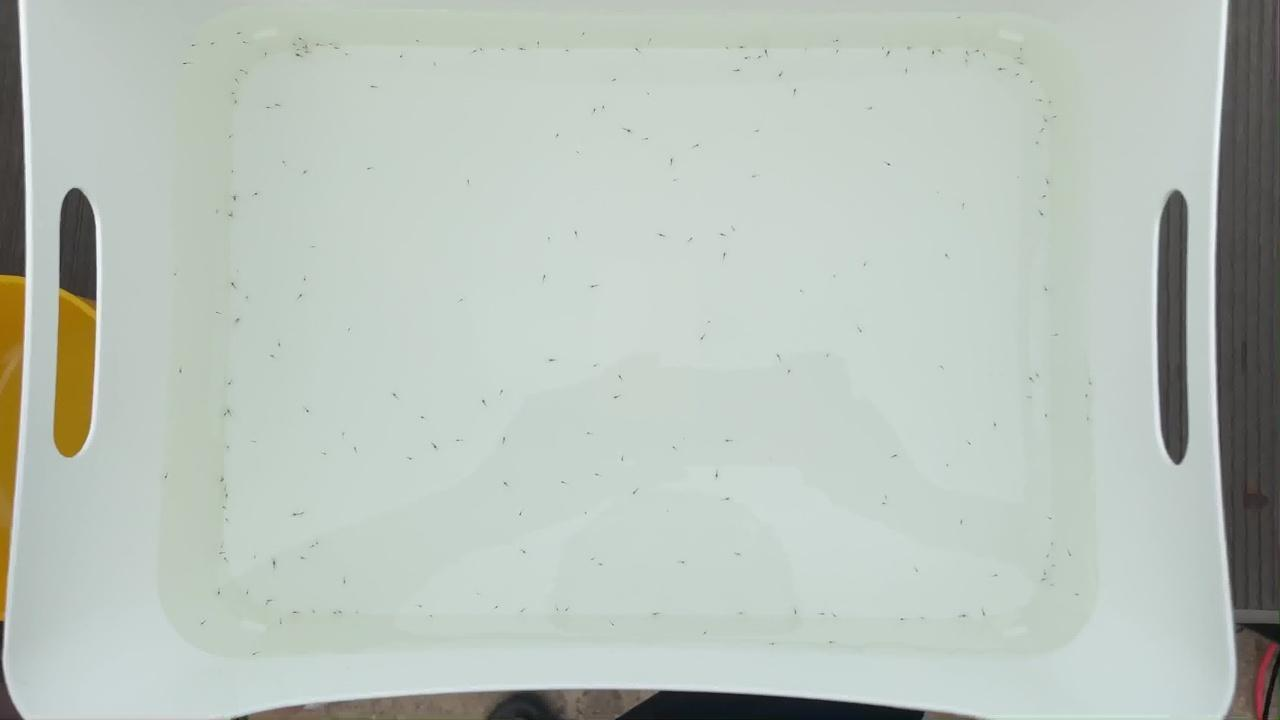shrimp: (964, 440, 977, 448), (944, 462, 957, 470), (824, 639, 837, 647), (699, 628, 712, 636), (1041, 285, 1054, 293), (1049, 113, 1062, 121), (755, 52, 768, 60), (761, 46, 774, 54), (962, 201, 975, 209), (687, 235, 700, 243), (665, 157, 678, 165), (620, 129, 633, 137), (592, 107, 605, 115), (647, 90, 660, 98), (342, 52, 355, 60), (315, 41, 328, 49), (260, 52, 273, 60), (207, 41, 220, 49), (243, 69, 256, 77), (232, 79, 245, 87), (300, 168, 313, 176), (228, 196, 241, 204), (160, 473, 173, 481), (242, 290, 255, 298), (224, 378, 237, 386), (298, 556, 311, 564), (215, 589, 228, 597), (198, 622, 211, 630), (518, 606, 531, 614), (555, 478, 568, 486), (631, 489, 644, 497), (989, 423, 1001, 431), (817, 611, 829, 619), (933, 46, 945, 54), (795, 285, 807, 293), (723, 439, 735, 447), (219, 484, 231, 492), (1073, 589, 1086, 596), (1035, 575, 1048, 582), (1045, 560, 1058, 567), (1038, 552, 1051, 559), (1067, 549, 1080, 556), (974, 608, 987, 615), (960, 613, 973, 620), (990, 575, 1003, 582), (1082, 415, 1095, 422), (1080, 391, 1093, 398), (1086, 380, 1099, 387), (1031, 373, 1044, 380), (1023, 375, 1036, 382), (1022, 391, 1035, 398), (1040, 415, 1053, 422), (954, 518, 967, 525), (917, 616, 930, 623), (894, 617, 907, 624), (827, 611, 840, 618), (791, 610, 804, 617), (733, 611, 746, 618), (879, 502, 892, 509), (879, 493, 892, 500), (890, 453, 903, 460), (1049, 331, 1062, 338), (1037, 206, 1050, 213), (1040, 192, 1053, 199), (1041, 176, 1054, 183), (1029, 139, 1042, 146), (1035, 128, 1048, 135), (1039, 116, 1052, 123), (1042, 97, 1055, 104), (1034, 97, 1047, 104), (1027, 79, 1040, 86), (1011, 73, 1024, 80), (1016, 60, 1029, 67), (1012, 55, 1025, 62), (1017, 44, 1030, 51), (971, 48, 984, 55), (960, 60, 973, 67), (952, 15, 965, 22), (903, 41, 916, 48), (878, 44, 891, 51), (831, 50, 844, 57), (829, 38, 842, 45), (790, 86, 803, 93), (773, 68, 786, 75), (723, 44, 736, 51), (737, 41, 750, 48), (862, 106, 875, 113), (879, 162, 892, 169), (939, 253, 952, 260), (855, 323, 868, 330), (821, 349, 834, 356), (781, 369, 794, 376), (608, 618, 621, 625), (736, 549, 749, 556), (722, 492, 735, 499), (669, 444, 682, 451), (698, 331, 711, 338), (703, 319, 716, 326), (718, 252, 731, 259), (728, 226, 741, 233), (651, 231, 664, 238), (748, 172, 761, 179), (752, 129, 765, 136), (693, 143, 706, 150), (642, 136, 655, 143), (576, 149, 589, 156), (599, 104, 612, 111), (607, 79, 620, 86), (632, 48, 645, 55), (647, 39, 660, 46), (576, 32, 589, 39), (561, 47, 574, 54), (531, 39, 544, 46), (518, 45, 531, 52), (499, 46, 512, 53), (477, 47, 490, 54), (470, 48, 483, 55), (412, 39, 425, 46), (369, 85, 382, 92), (331, 42, 344, 49), (327, 39, 340, 46), (302, 50, 315, 57), (290, 50, 303, 57), (288, 41, 301, 48), (299, 42, 312, 49), (296, 46, 309, 53), (238, 39, 251, 46), (233, 32, 246, 39), (177, 62, 190, 69), (234, 66, 247, 73), (226, 90, 239, 97), (230, 97, 243, 104), (269, 101, 282, 108), (227, 135, 240, 142), (279, 162, 292, 169), (366, 166, 379, 173), (462, 177, 475, 184), (251, 189, 264, 196), (226, 209, 239, 216), (227, 169, 240, 176), (170, 268, 183, 275), (175, 366, 188, 373), (226, 282, 239, 289), (210, 310, 223, 317), (231, 316, 244, 323), (307, 243, 320, 250), (297, 277, 310, 284), (294, 293, 307, 300), (345, 326, 358, 333), (273, 341, 286, 348), (265, 354, 278, 361), (218, 410, 231, 417), (299, 405, 312, 412), (247, 436, 260, 443), (220, 445, 233, 452), (216, 474, 229, 481), (221, 492, 234, 499), (217, 503, 230, 510), (222, 519, 235, 526), (292, 511, 305, 518), (315, 541, 328, 548), (305, 544, 318, 551), (270, 559, 283, 566), (250, 550, 263, 557), (224, 557, 237, 564), (217, 549, 230, 556), (218, 542, 231, 549), (240, 593, 253, 600), (249, 650, 262, 657), (276, 618, 289, 625), (265, 597, 278, 604), (260, 601, 273, 608), (307, 609, 320, 616), (327, 610, 340, 617), (333, 609, 346, 616), (340, 575, 353, 582), (416, 601, 429, 608), (425, 612, 438, 619), (549, 606, 562, 613), (560, 605, 573, 612), (593, 561, 606, 568), (585, 553, 598, 560), (318, 452, 331, 459), (350, 444, 363, 451), (337, 430, 350, 437), (402, 454, 415, 461), (388, 389, 401, 396), (454, 437, 467, 444), (499, 437, 512, 444), (478, 399, 491, 406), (499, 386, 512, 393), (455, 292, 468, 299), (498, 477, 511, 484), (514, 511, 527, 518), (518, 549, 531, 556), (591, 473, 604, 480), (617, 454, 630, 461), (582, 431, 595, 438), (610, 394, 623, 401), (613, 375, 626, 382), (588, 362, 601, 369), (536, 265, 549, 272), (541, 234, 554, 241), (572, 229, 585, 236), (586, 283, 599, 290), (537, 277, 550, 284), (1045, 580, 1057, 587), (1039, 568, 1051, 575), (1045, 537, 1057, 544), (1045, 515, 1057, 522), (911, 565, 923, 572), (767, 643, 779, 650), (934, 364, 946, 371), (995, 66, 1007, 73), (978, 50, 990, 57), (961, 48, 973, 55), (928, 51, 940, 58), (900, 64, 912, 71), (884, 50, 896, 57), (729, 68, 741, 75), (740, 53, 752, 60), (861, 259, 873, 266), (773, 348, 785, 355), (829, 275, 841, 282), (651, 611, 663, 618), (679, 558, 691, 565), (712, 467, 724, 474), (718, 231, 730, 238), (668, 175, 680, 182), (552, 129, 564, 136), (396, 55, 408, 62), (430, 57, 442, 64), (297, 36, 309, 43), (186, 42, 198, 49), (263, 106, 275, 113), (213, 205, 225, 212), (225, 409, 237, 416), (291, 608, 303, 615), (352, 606, 364, 613), (491, 603, 503, 610), (419, 414, 431, 421), (429, 441, 441, 448), (579, 507, 591, 514), (546, 360, 558, 367)
